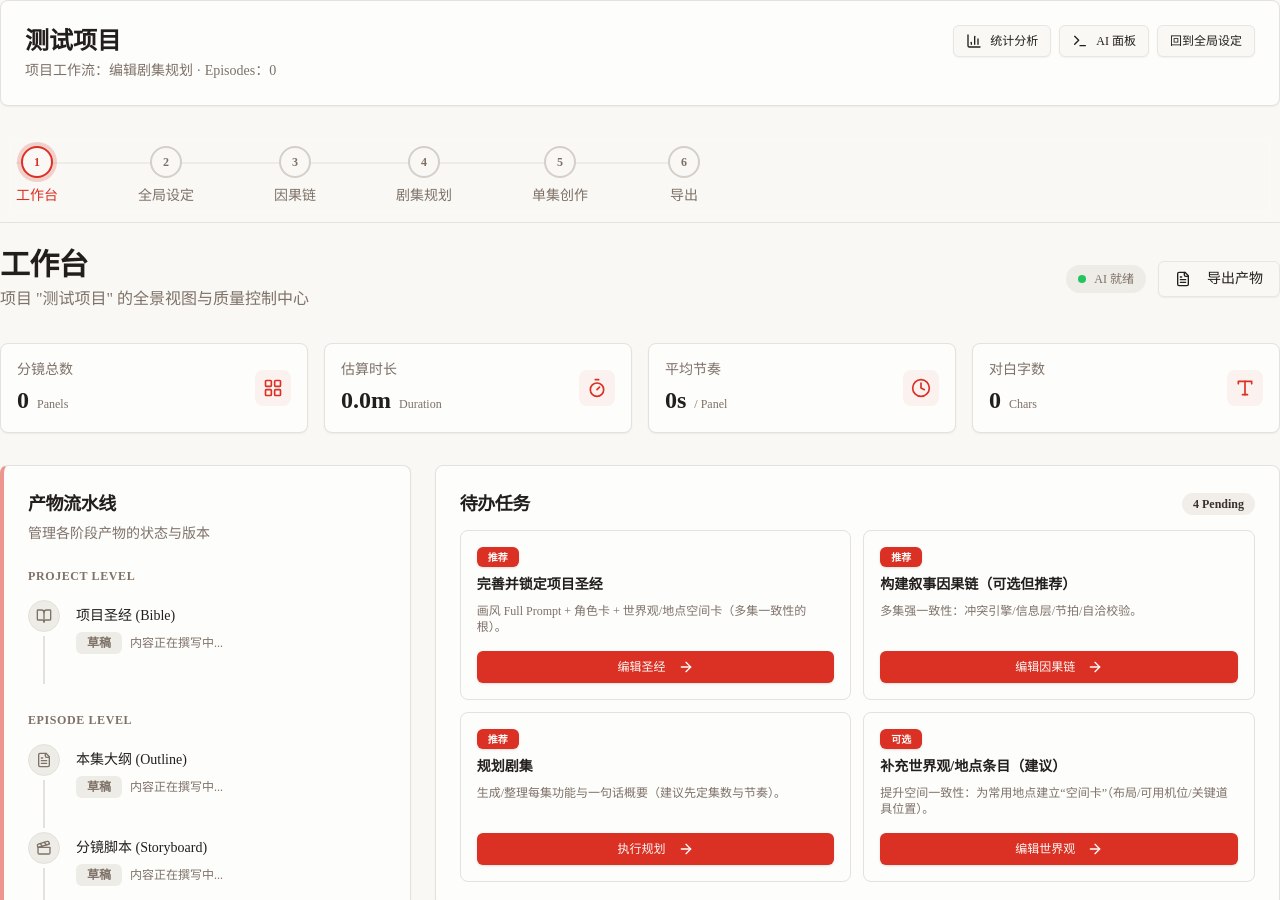
Test: EpisodeWorkflow › 点击步骤应切换到剧集规划面板
Click the text "剧集规划". click: (424, 196)
box: [396, 186, 452, 206]
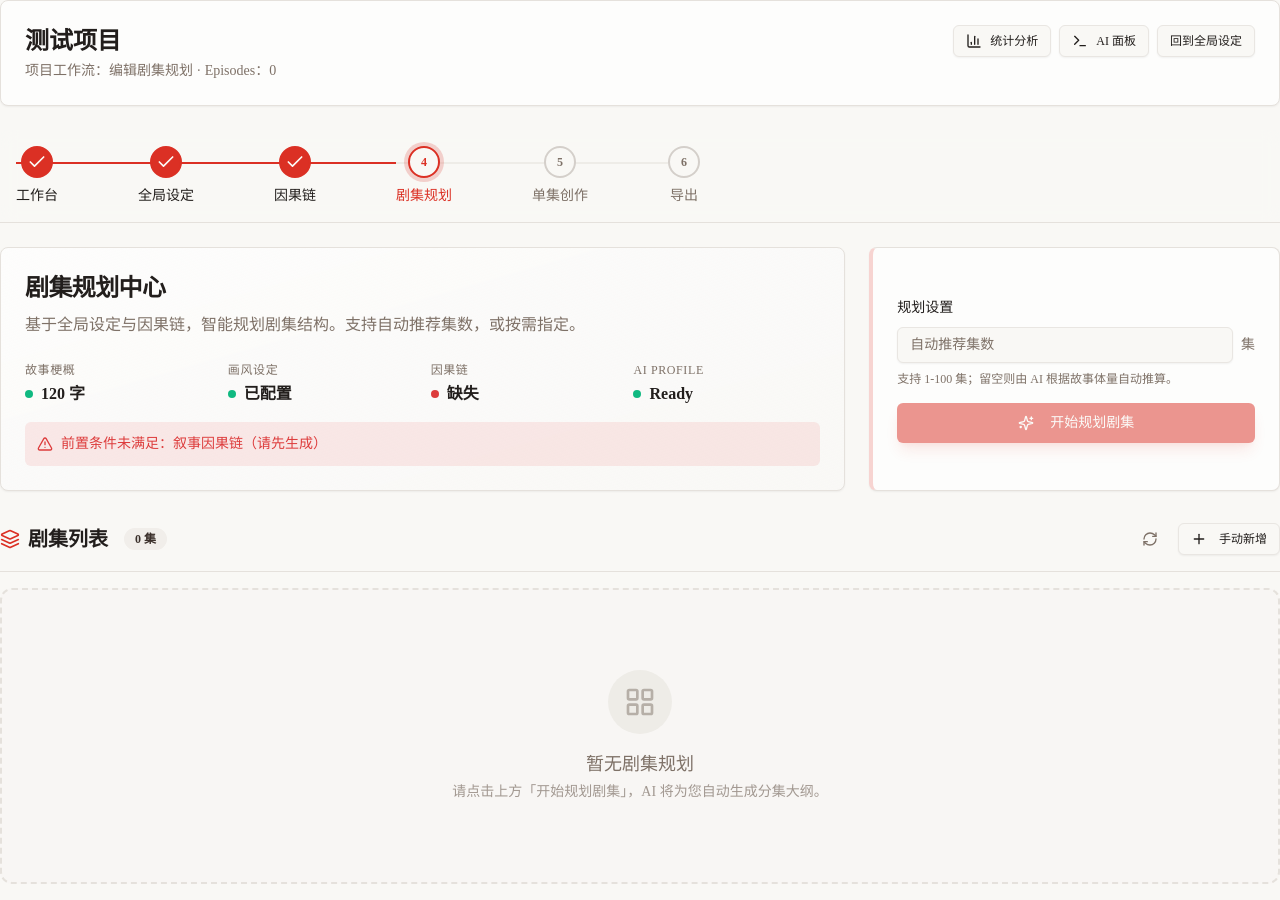
Expected: the heading "剧集规划中心" is shown, [25, 275, 165, 301]
